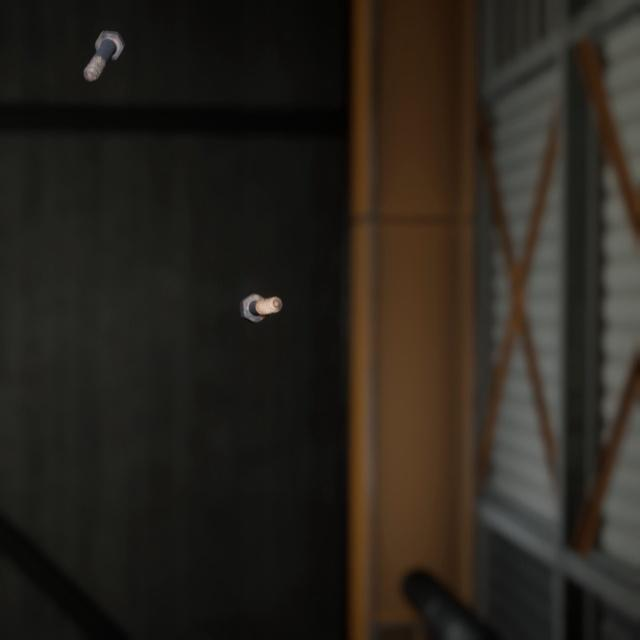bolt: (78, 17, 129, 76), (235, 271, 286, 310)
